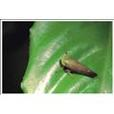Cicadellidae: (60, 52, 99, 80)
